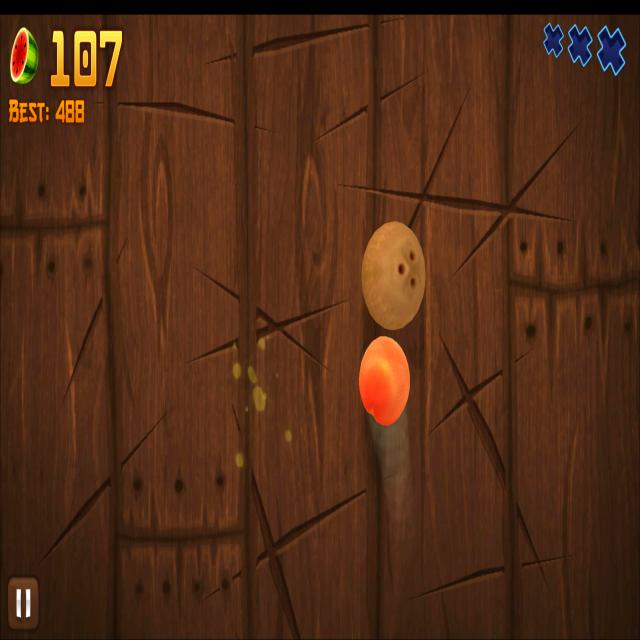fruit: (361, 219, 427, 331), (358, 336, 410, 425)
